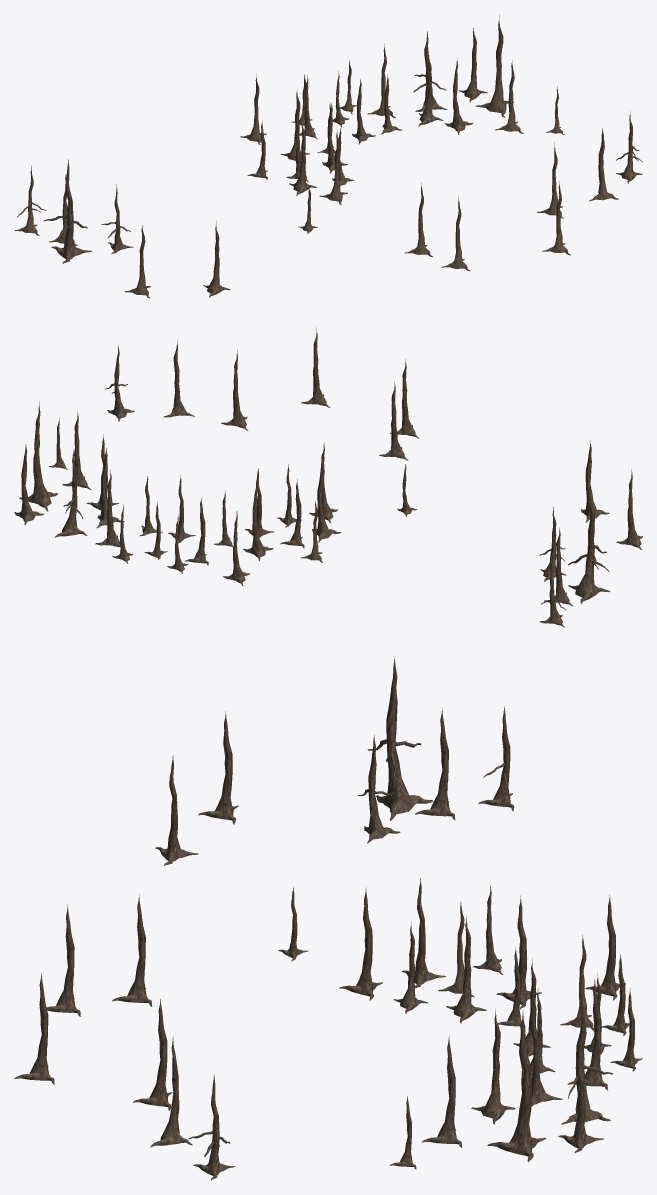
The model's file is songshugan_08.FBX.
The picture shows the model from 3 angles, top to bottom: view 1: azimuth 30°, elevation 25°; view 2: azimuth 150°, elevation 25°; view 3: azimuth 270°, elevation 25°; orthographic projection. The views are drawn at different scales.
Visible parts, largest first — view 1: Object037; view 2: Object037; view 3: Object037.
Boxes of the visible parts, x1,y1,x2,y2 form: Object037: [14, 14, 642, 298]; Object037: [14, 327, 642, 627]; Object037: [14, 656, 642, 1180].
Size of the model in its own units: 12432 by 2231 by 8494.
